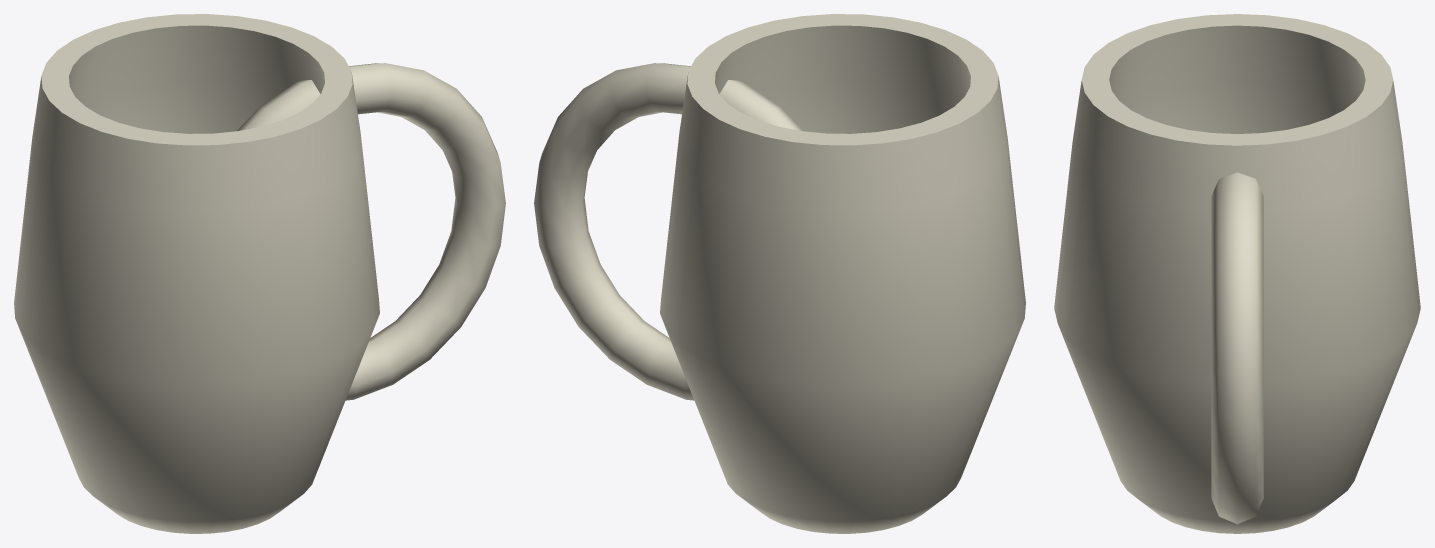
The model's file is adventurers-tavern-and-guild-hall-water-jug-27448f41__24715.glb.
3 renders of one model, left to right at view 1: azimuth 30°, elevation 25°; view 2: azimuth 150°, elevation 25°; view 3: azimuth 270°, elevation 25°, orthographic.
Parts seen in each view (by area): view 1: water-jug; view 2: water-jug; view 3: water-jug.
Boxes of the visible parts, left/top/right/bottom form: water-jug: left=14, top=14, right=505, bottom=533; water-jug: left=534, top=14, right=1025, bottom=533; water-jug: left=1054, top=14, right=1420, bottom=533.
Size of the model in its own units: 0.41 by 0.35 by 0.28.
